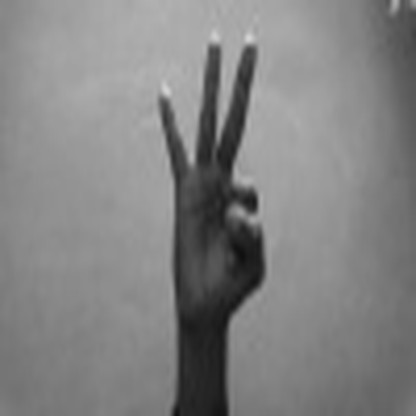f: (144, 32, 286, 308)
